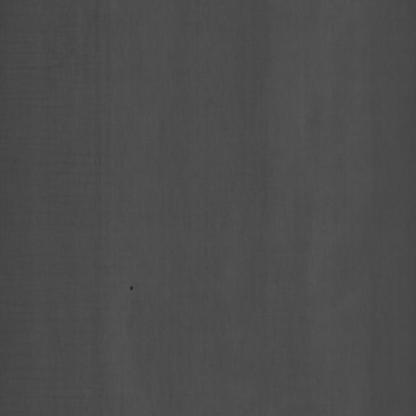inclusion: (121, 272, 145, 303)
